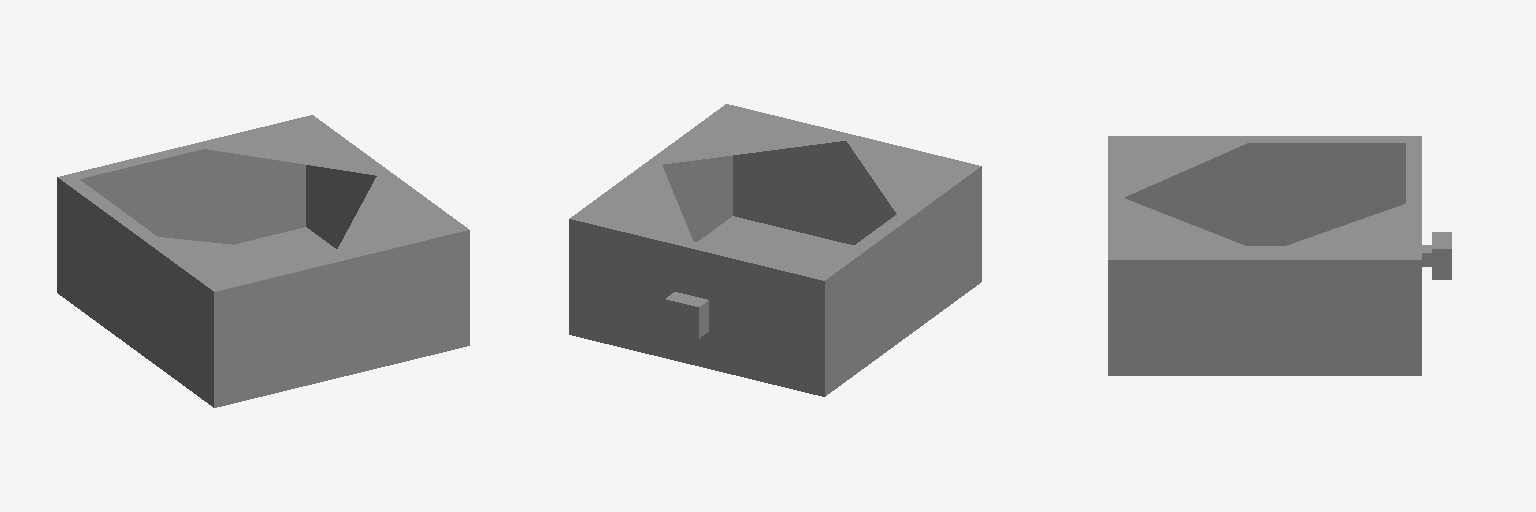
The model's file is kitchen_wooden_cabinet_box.obj.
The picture shows the model from 3 angles: view 1: azimuth 30°, elevation 25°; view 2: azimuth 150°, elevation 25°; view 3: azimuth 270°, elevation 25°; orthographic projection.
Visible parts, largest first — view 1: Cube.001; view 2: Cube.001; view 3: Cube.001.
Part boxes in pixels (x1,y1,x2,y2): Cube.001: (57,115,469,407); Cube.001: (569,104,981,396); Cube.001: (1108,136,1451,375).
Bounding box in the file's own units: 1.79 × 0.7781 × 2.09.